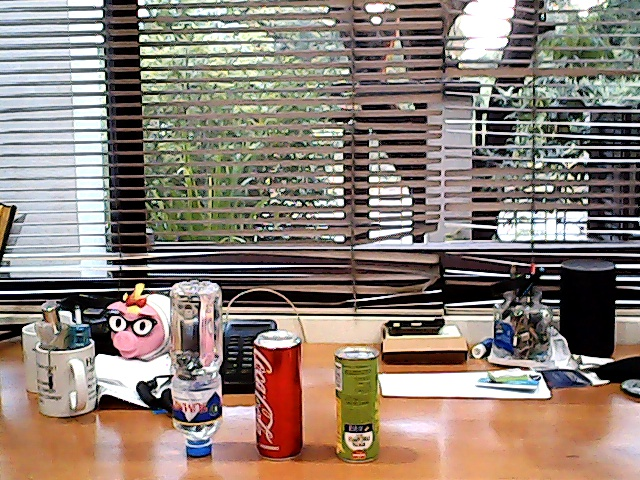Cola: (241, 314, 316, 469)
Pine Juice: (324, 341, 390, 473)
Summit Water: (158, 269, 232, 467)
